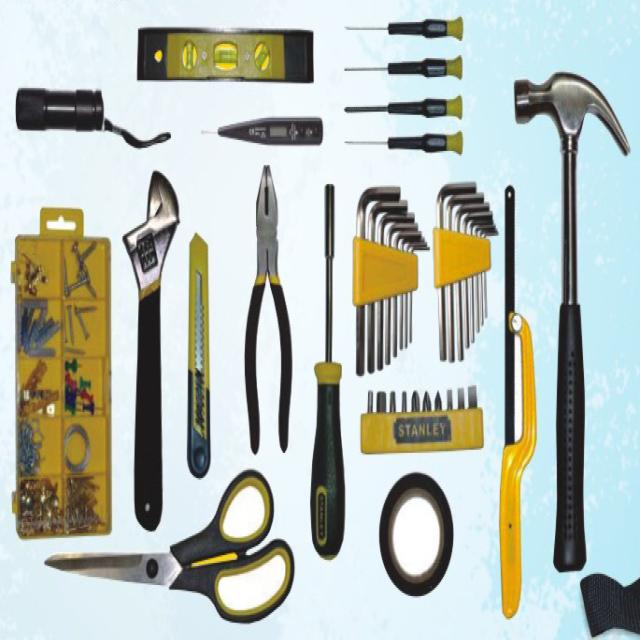Screwdriver: (310, 183, 345, 558), (344, 94, 462, 120), (344, 130, 463, 155), (344, 55, 462, 80), (345, 16, 463, 40)
